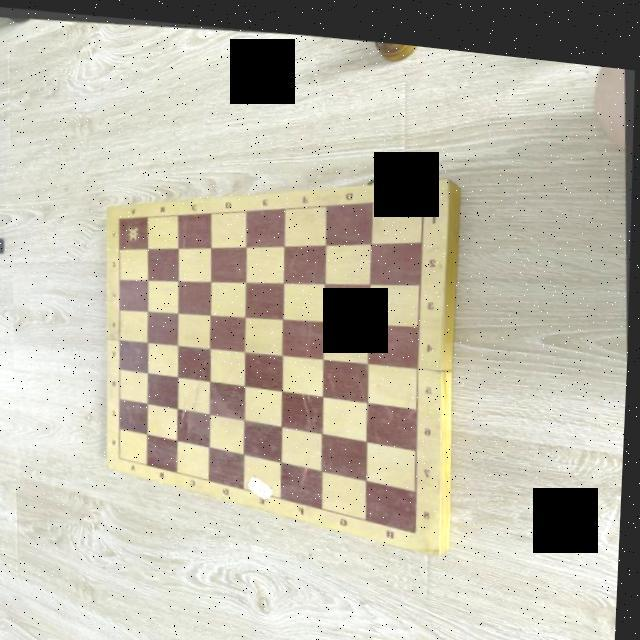chess-table-corners: (418, 184, 428, 193), (416, 516, 424, 526), (120, 450, 126, 458), (118, 212, 123, 218)
